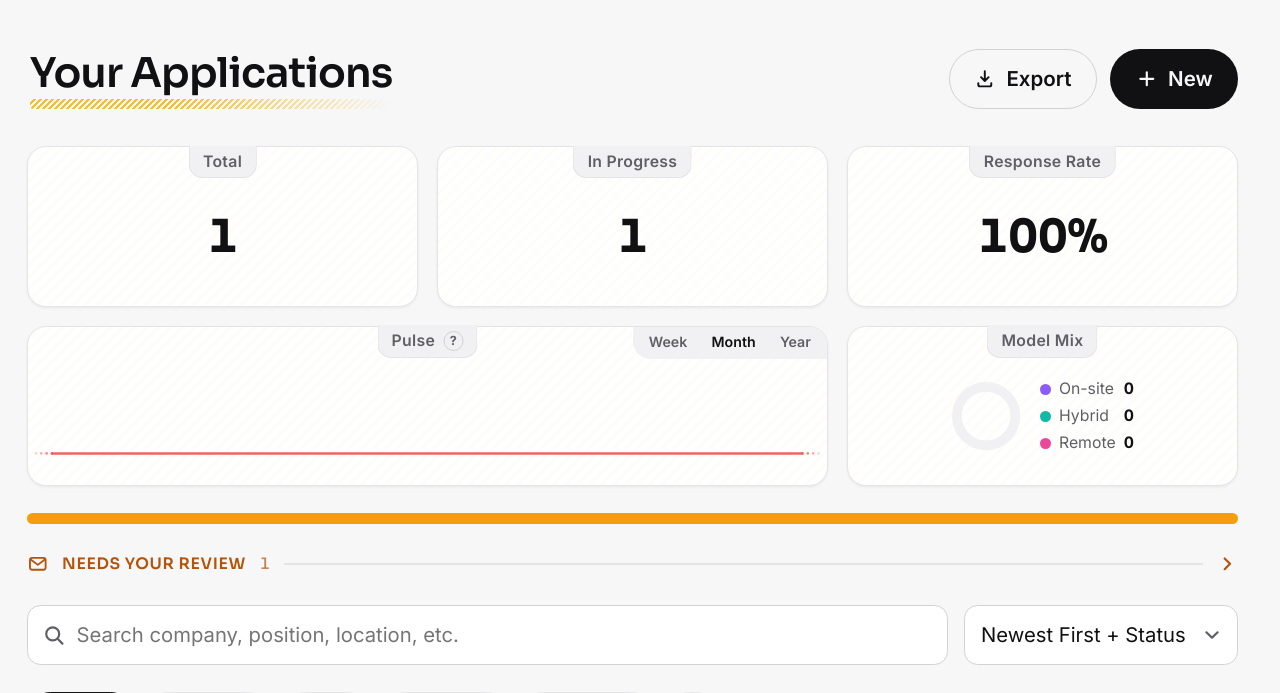
Scenario: Applications › lists a card waiting on an email update in the main list too, with its status area instead of the update
Click the button "Needs your review 1" at (632, 564), box [27,551,1238,578]
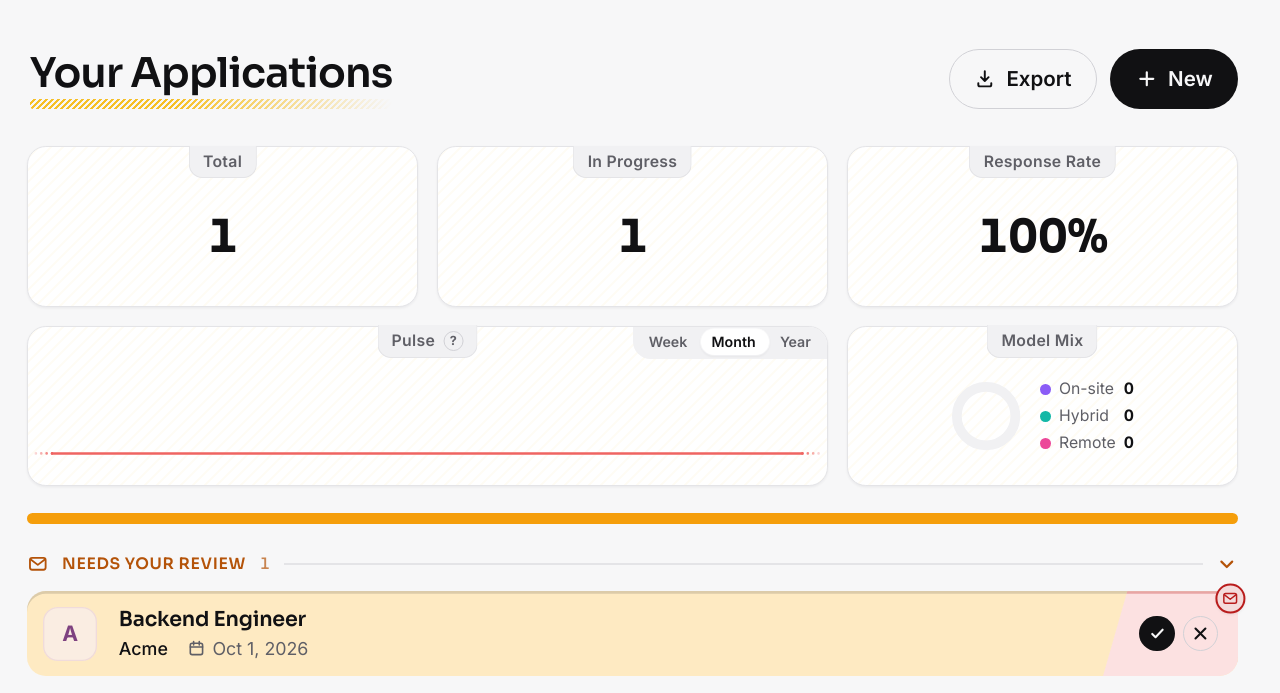
Now the number of elements named "Interview to Rejected" is 1, box [1140,584,1246,651]
